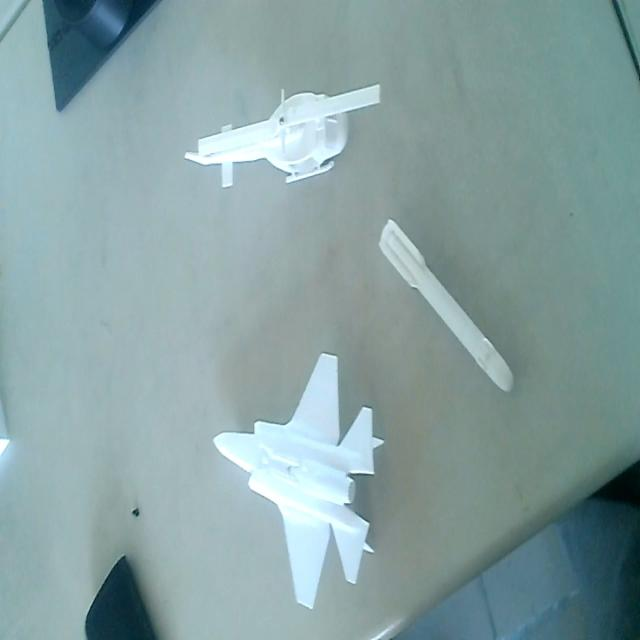Helicopter: (179, 77, 388, 192)
Jet: (210, 348, 384, 614)
Rocket: (377, 212, 517, 402)
